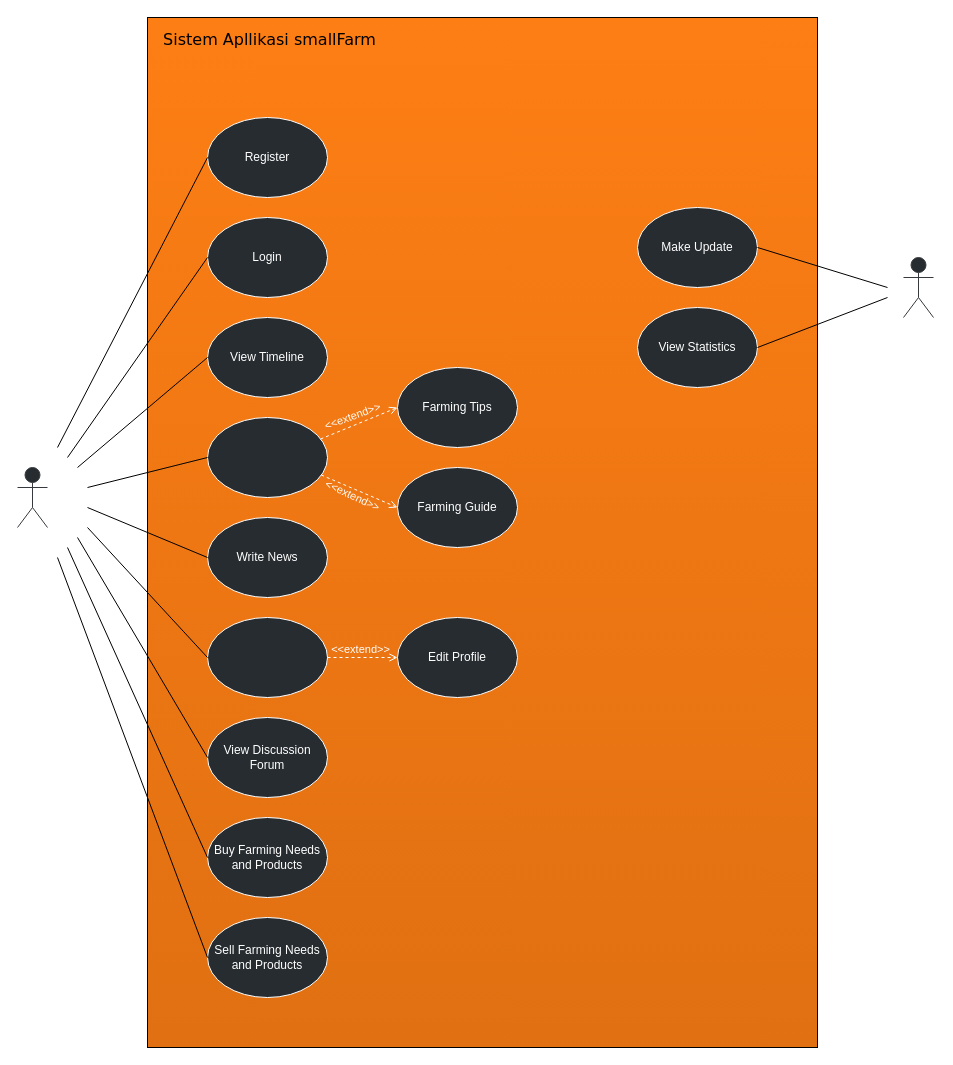
The diagram is 953 pixels wide and 1065 high, and some of its shapes have lost their labels. The centre of each missing label's shape, as x and y in pixels:
"Admin" goes at [918,287].
"User" goes at [32,497].
"View News" goes at [267,457].
"View Profile" goes at [267,657].
